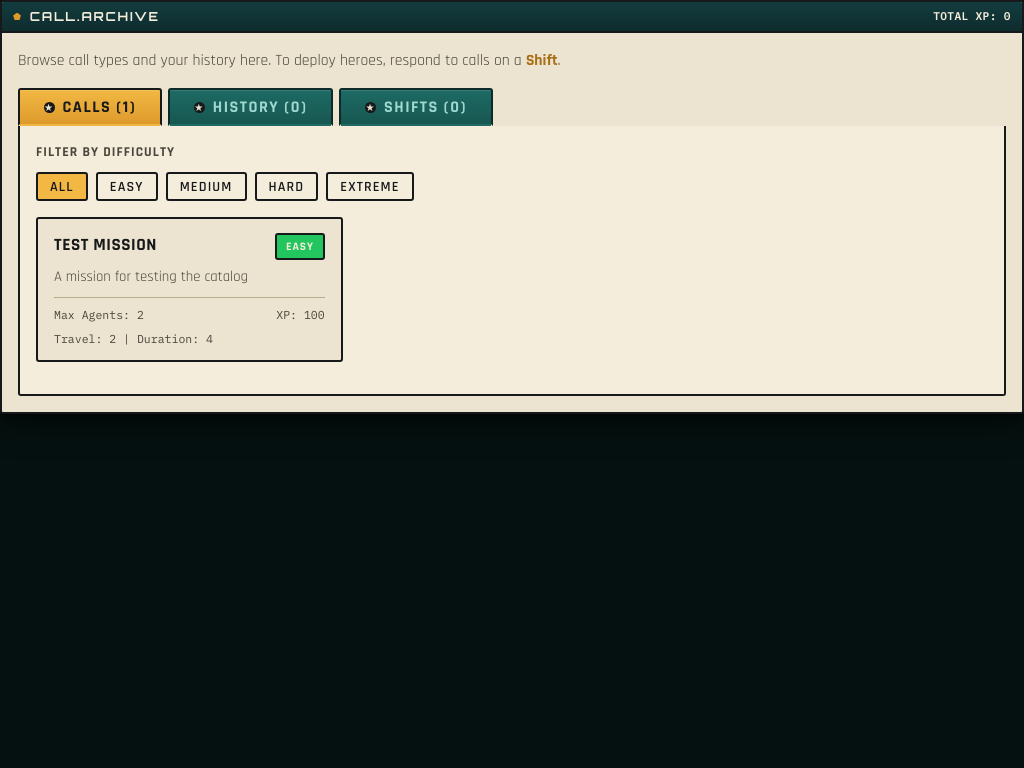
Test: Missions - catalog browse › shows read-only mission details on select, with no deploy UI
The image size is (1024, 768).
Click the heading "Test Mission" at (105, 246), box x1=54 y1=233 x2=157 y2=259
(page scrolled)
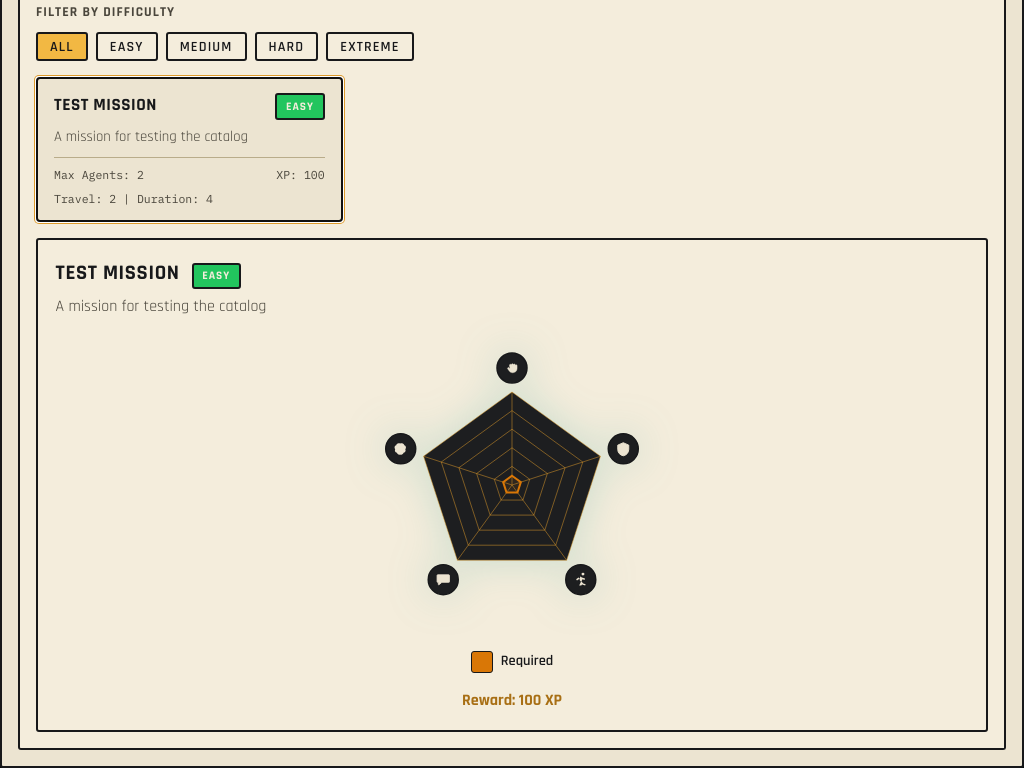
Expected: the button "deploy" is not shown
Expected: the text "Reward: 100 XP" is shown, x1=462 y1=690 x2=562 y2=711
